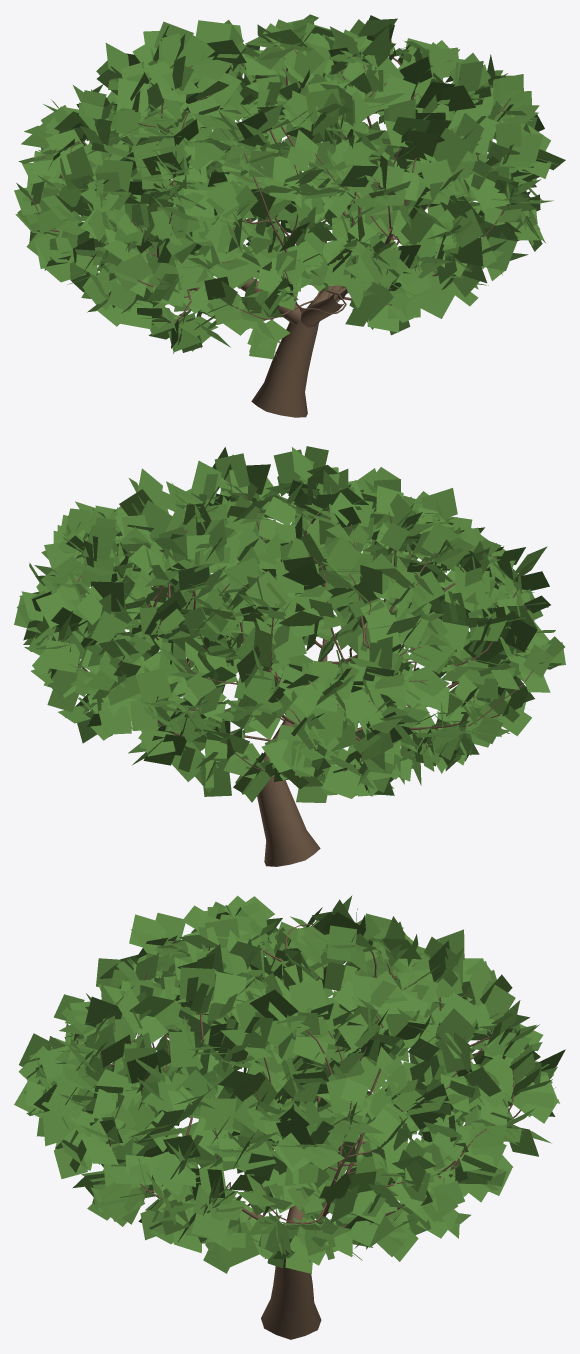
Rendered from foliage-garden-tree.glb.
3 renders of one model, top to bottom at view 1: azimuth 30°, elevation 25°; view 2: azimuth 150°, elevation 25°; view 3: azimuth 270°, elevation 25°, orthographic. The views are drawn at different scales.
Parts seen in each view (by area): view 1: leaves, bark; view 2: leaves, bark; view 3: leaves, bark.
Part boxes in pixels (x1,y1,x2,y2): leaves: [14, 14, 565, 359]; bark: [29, 44, 510, 417]; leaves: [14, 446, 565, 802]; bark: [47, 479, 533, 866]; leaves: [14, 895, 565, 1273]; bark: [76, 923, 520, 1339].
Bounding box in the file's own units: 7.31 × 5.3 × 6.83.
